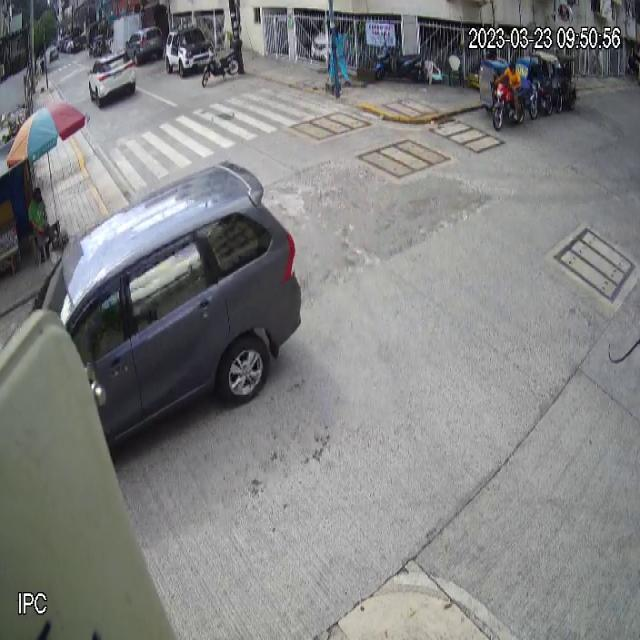Car: (32, 158, 303, 445)
Tricycle: (478, 59, 526, 132)
